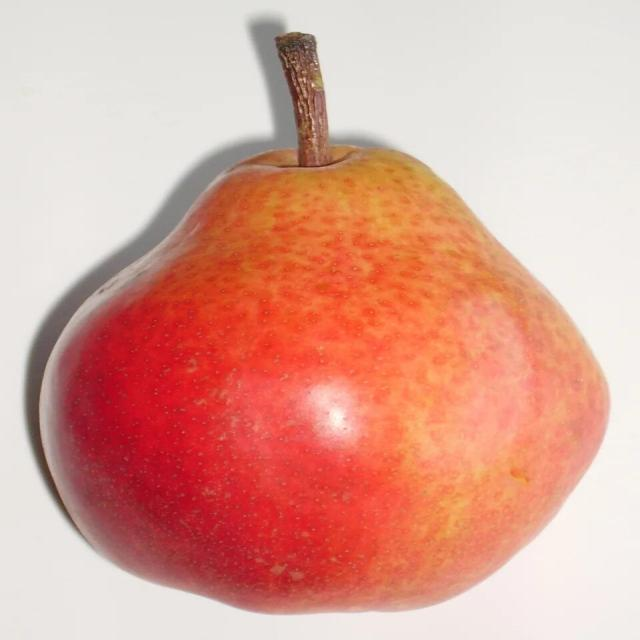pear: (29, 29, 614, 617)
